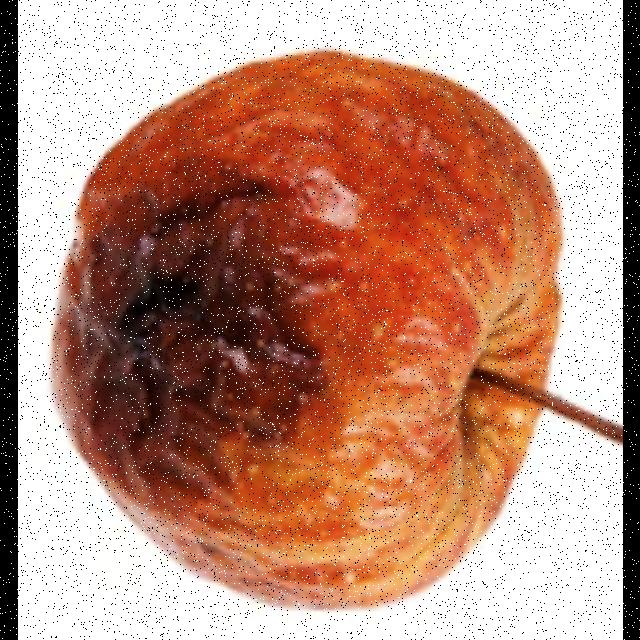Apel Tidak Segar: (55, 48, 568, 618)
